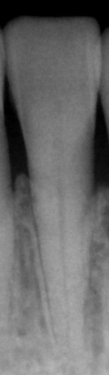tooth: (6, 18, 98, 317)
